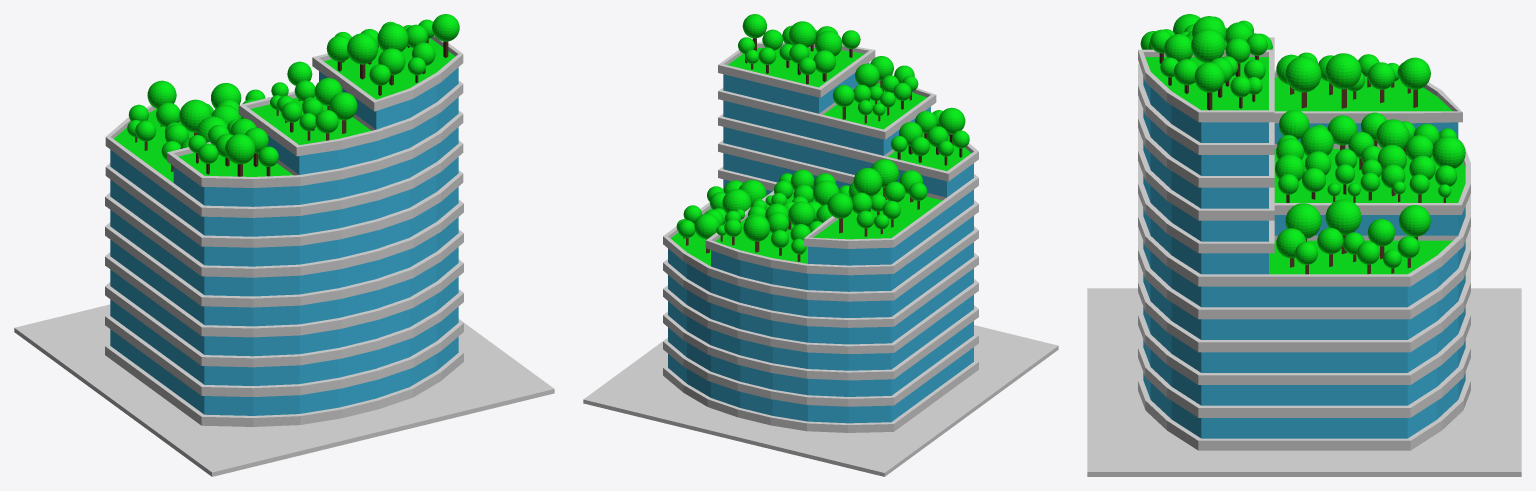
Rendered from Chroma Skyscraper E.fbx.
The picture shows the model from 3 angles, left to right: view 1: azimuth 30°, elevation 25°; view 2: azimuth 150°, elevation 25°; view 3: azimuth 270°, elevation 25°; orthographic projection. The views are drawn at different scales.
Parts seen in each view (by area): view 1: Cube, Ground, Trees; view 2: Cube, Trees, Ground; view 3: Cube, Trees, Ground.
Part boxes in pixels (x1=…): Cube: x1=105, y1=35, x2=463, y2=426; Ground: x1=14, y1=304, x2=554, y2=476; Trees: x1=127, y1=14, x2=459, y2=176; Cube: x1=663, y1=41, x2=978, y2=432; Trees: x1=676, y1=14, x2=969, y2=261; Ground: x1=583, y1=325, x2=1058, y2=476; Cube: x1=1138, y1=37, x2=1470, y2=450; Trees: x1=1140, y1=14, x2=1465, y2=274; Ground: x1=1087, y1=288, x2=1521, y2=476.
Bounding box in the file's own units: 1200 × 1187 × 1200.
